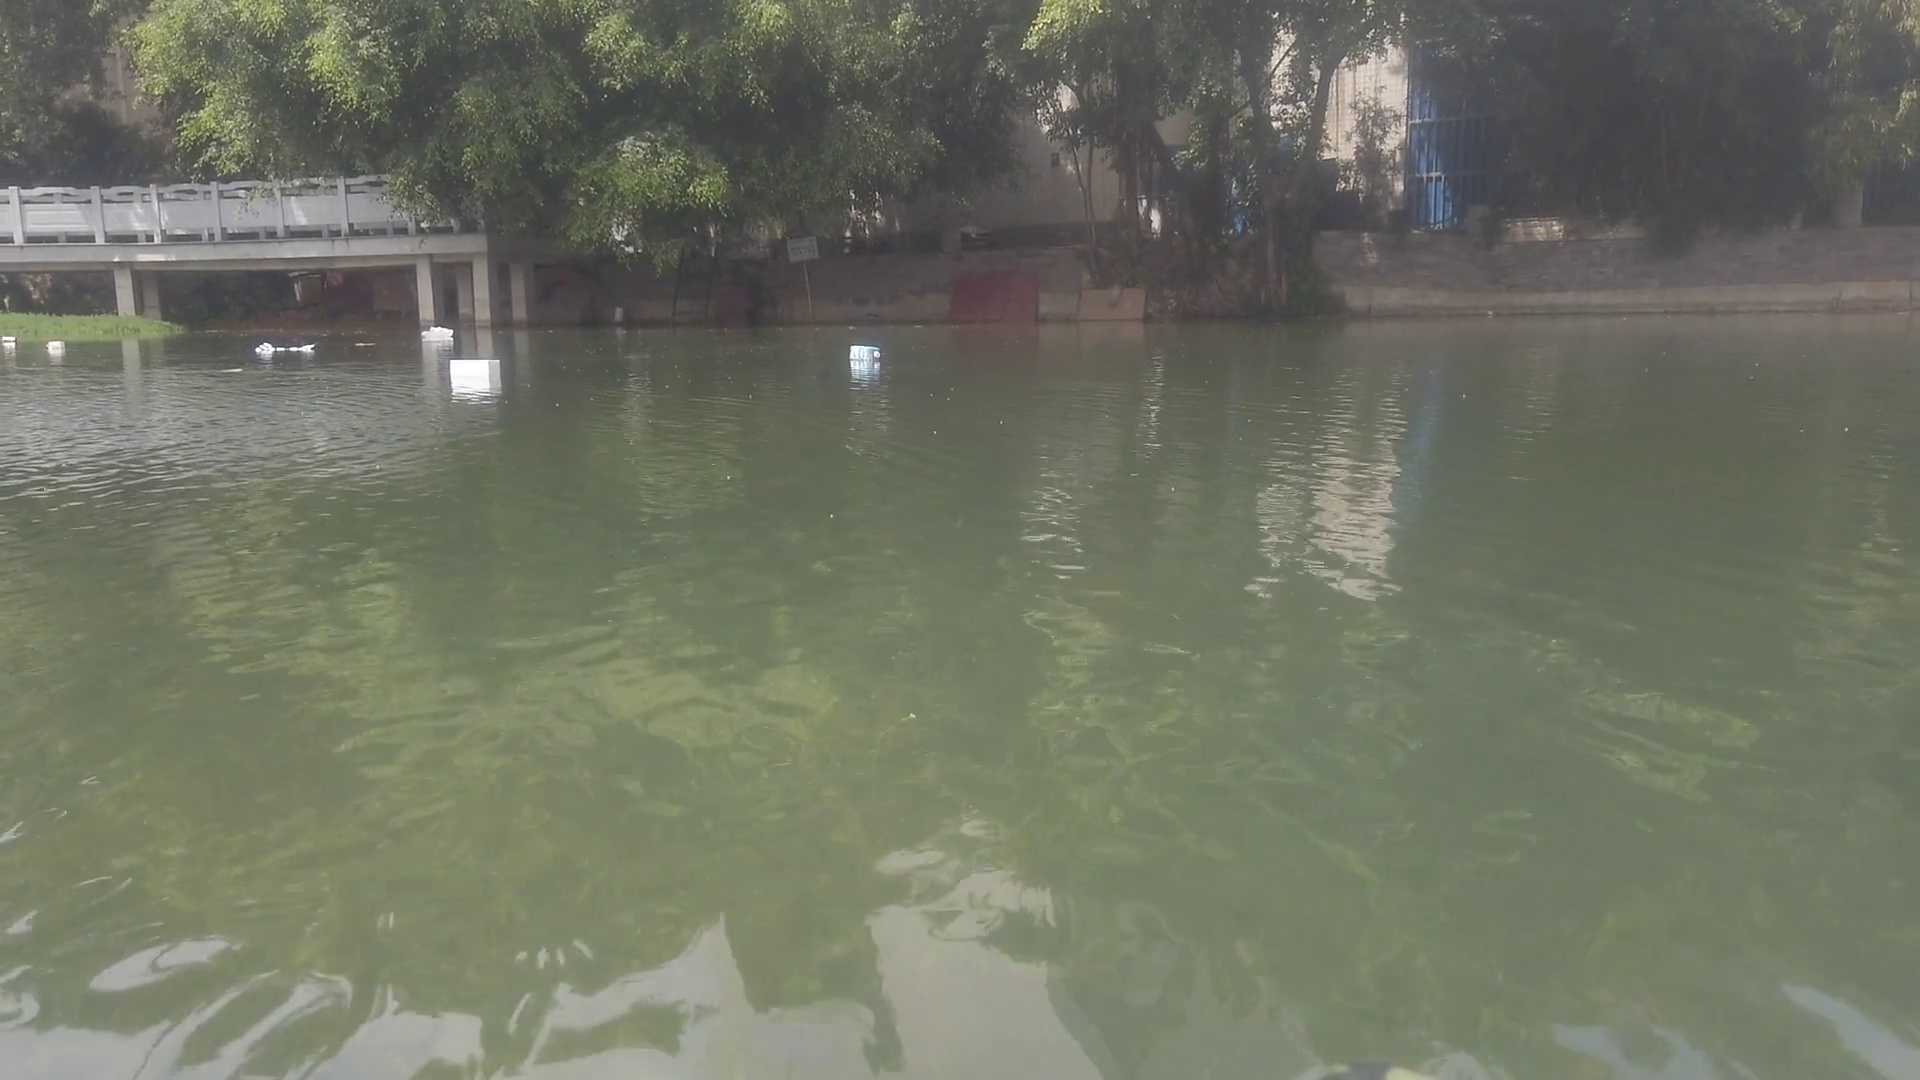bottle: (1, 334, 22, 344)
carton: (448, 357, 498, 378), (847, 342, 882, 363), (44, 338, 69, 353)
paper: (251, 339, 315, 356), (212, 361, 243, 378), (353, 339, 375, 349)
plastic: (419, 324, 454, 343)
